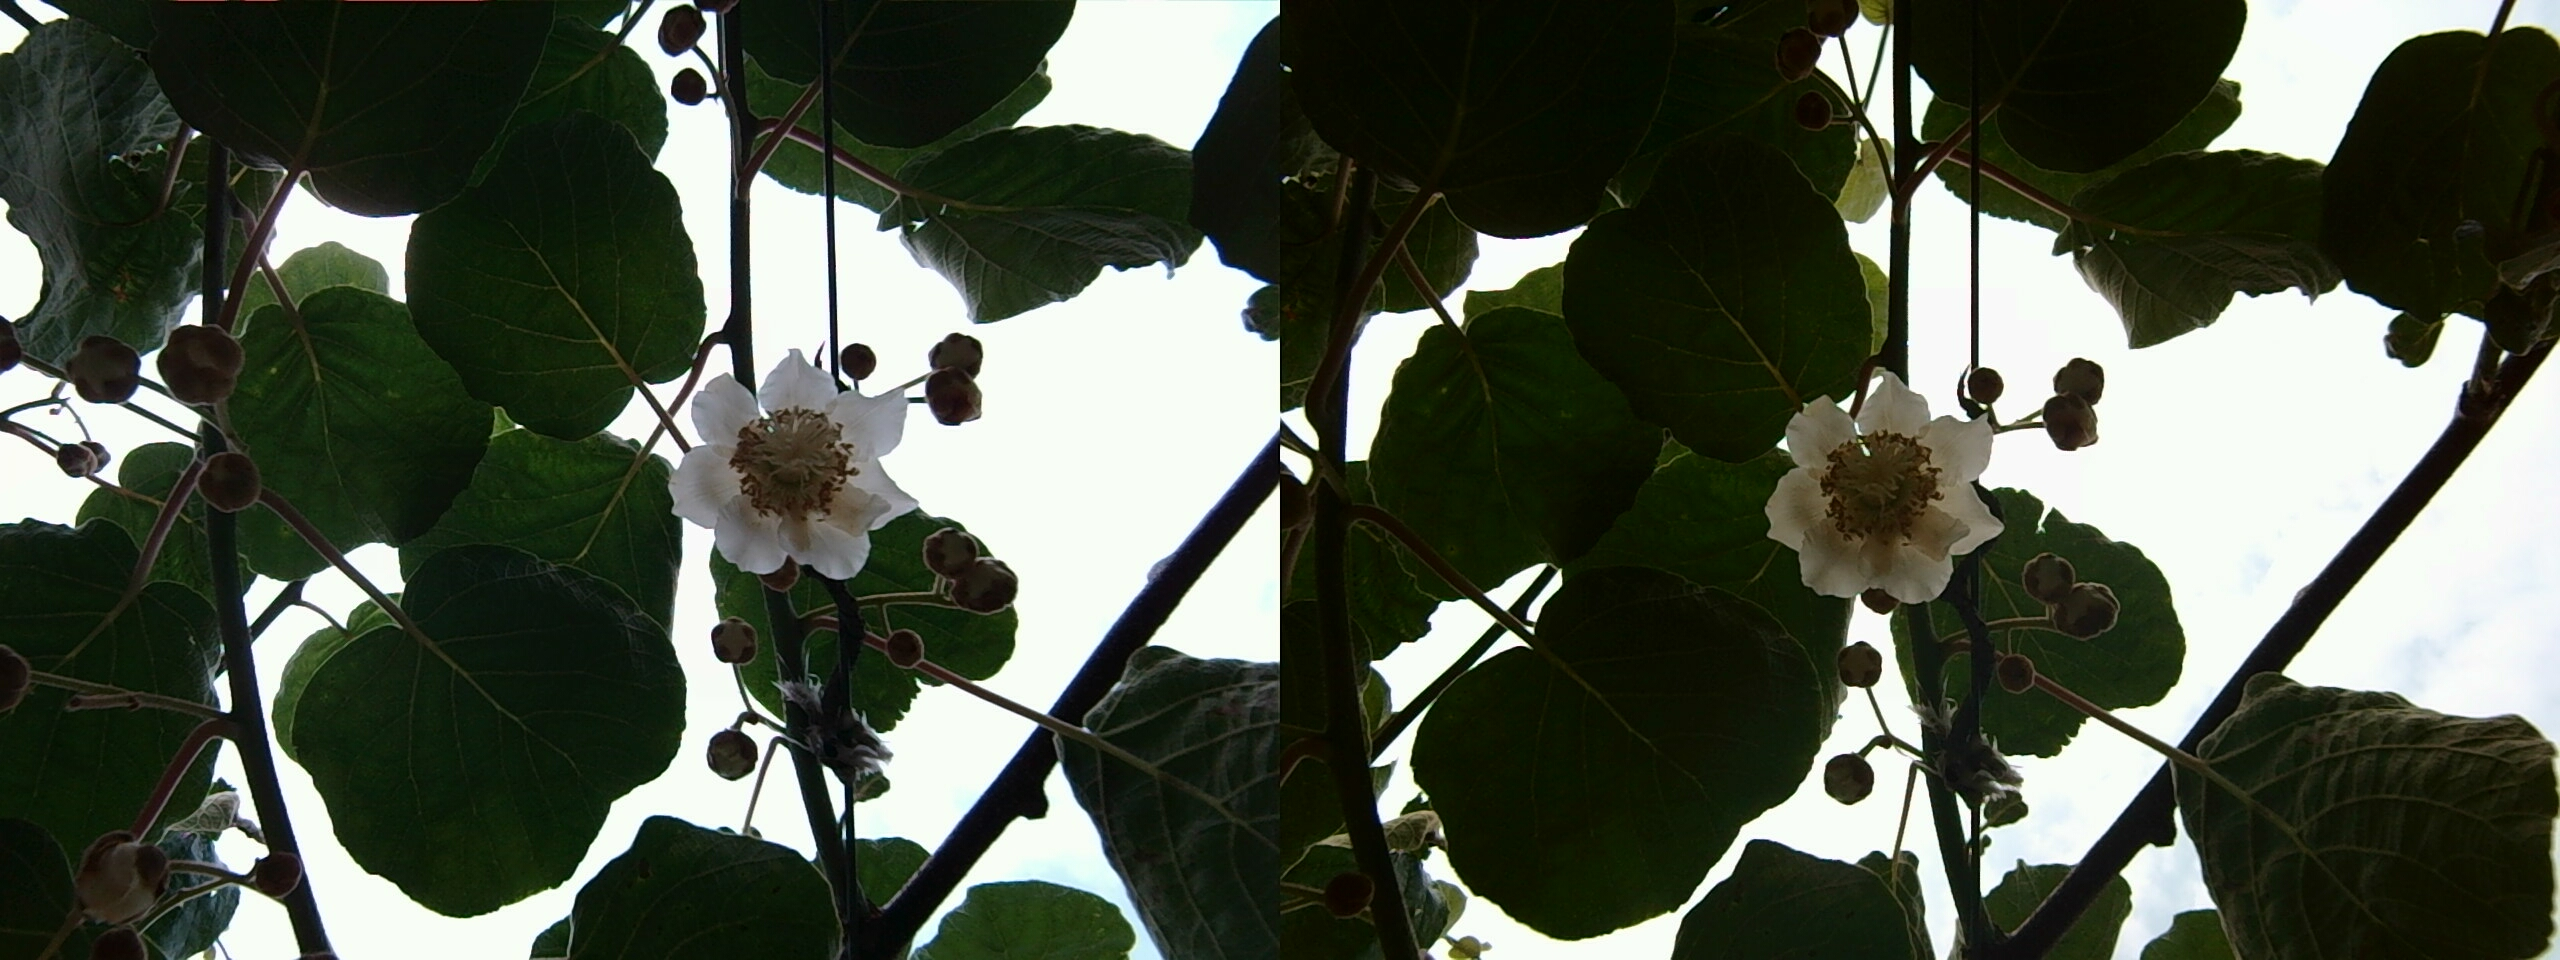flower: (664, 340, 919, 580), (1757, 371, 2000, 607)
